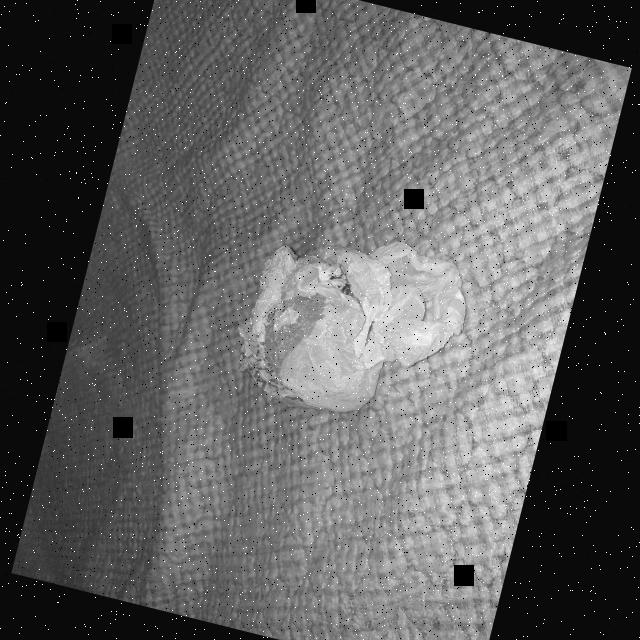plastic_bag: (212, 200, 487, 459)
